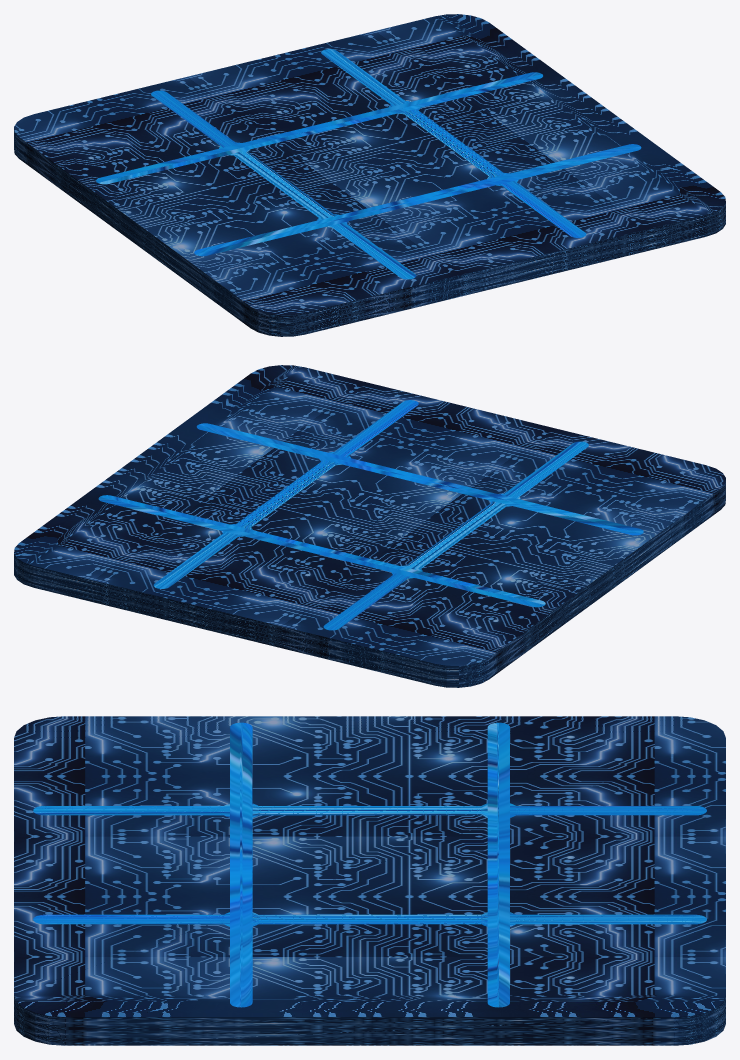
The model's file is board_first.glb.
3 views of the same model, one above another, from view 1: azimuth 30°, elevation 25°; view 2: azimuth 150°, elevation 25°; view 3: azimuth 270°, elevation 25° (orthographic). The views are drawn at different scales.
Parts seen in each view (by area): view 1: Cube_0, Curve.001_8; view 2: Cube_0, Curve.001_8; view 3: Cube_0, Curve.001_8.
Part boxes in pixels (box(x1,y1,x2,y2)): Cube_0: box(14, 14, 725, 336); Curve.001_8: box(96, 49, 641, 279); Cube_0: box(14, 365, 725, 687); Curve.001_8: box(98, 400, 643, 630); Cube_0: box(14, 716, 725, 1045); Curve.001_8: box(33, 722, 706, 1007).
Size of the model in its own units: 1.37 by 0.0627 by 1.37.
2 materials, 2 textured.
